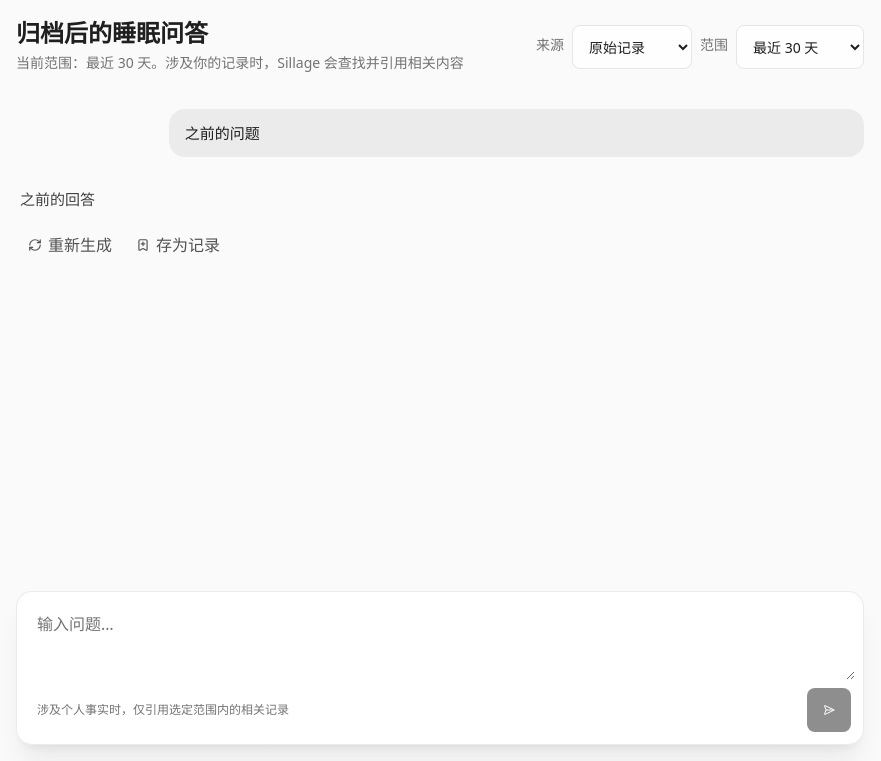
AskPage › refreshes the head after continuing an archived conversation
expect the heading "归档后的睡眠问答" is shown: met, box [16, 16, 208, 49]
Step 1. Type "继续追问" into the text box with placeholder "输入问题…" → (440, 640), box [25, 600, 855, 680]
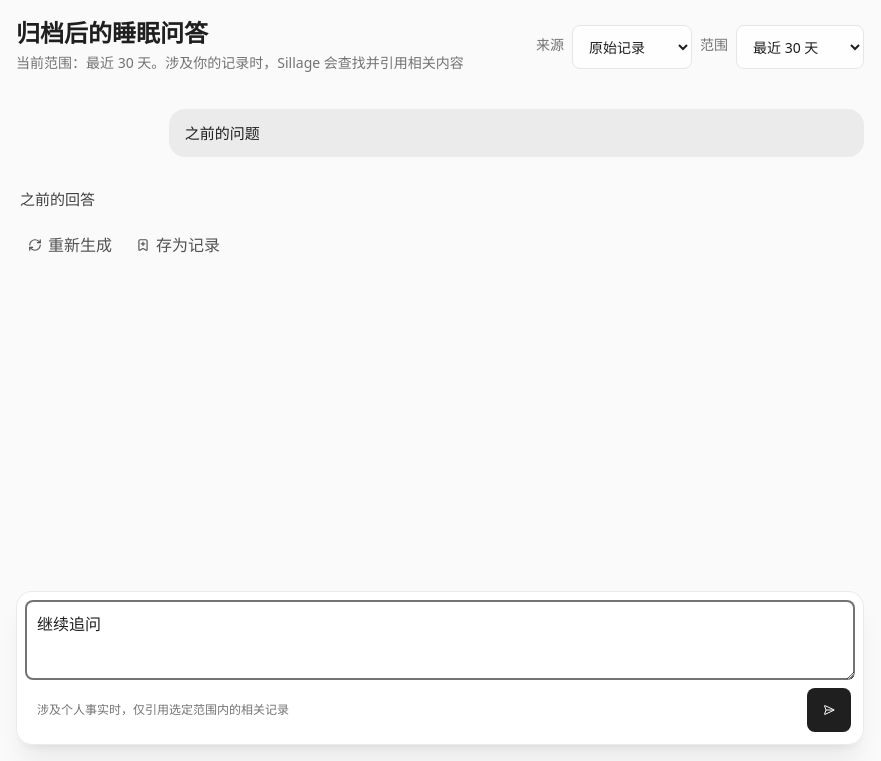
Step 2. Click the button named "发送" → (829, 710), box [807, 688, 851, 732]
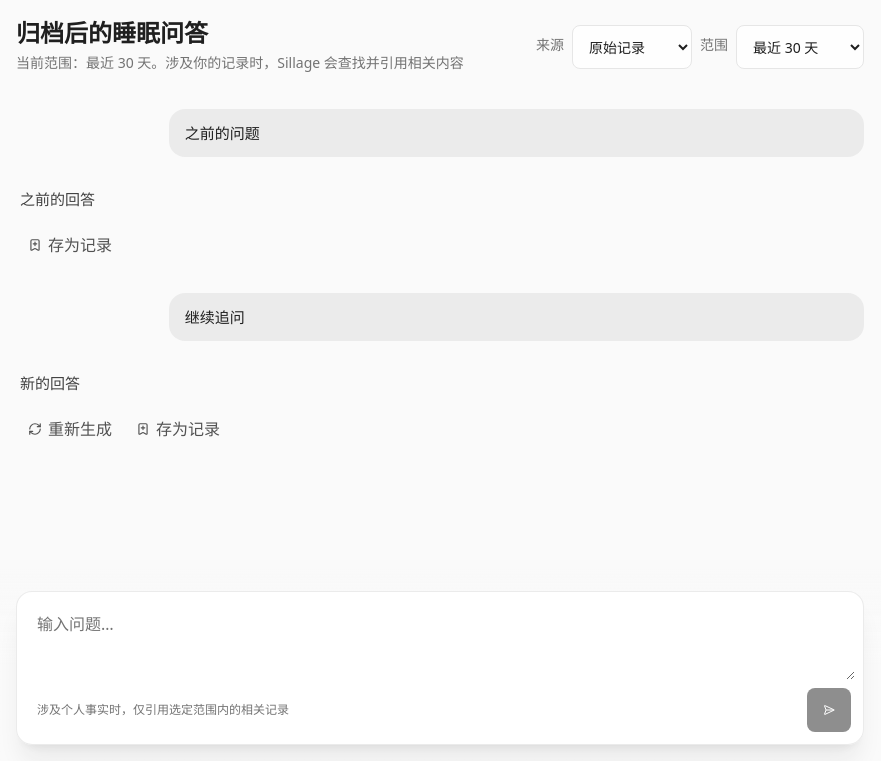
expect the text "新的回答" is shown: met, box [20, 373, 80, 393]
